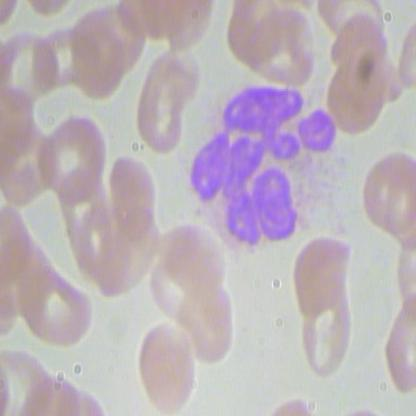RBC: (134, 45, 201, 155), (326, 49, 397, 136), (176, 276, 239, 373), (24, 263, 94, 349), (248, 2, 318, 88), (133, 320, 196, 415), (40, 114, 104, 205), (161, 215, 229, 291), (293, 235, 354, 316), (294, 295, 355, 376), (107, 150, 159, 242), (361, 149, 415, 237), (67, 22, 125, 98), (1, 120, 52, 206), (1, 28, 58, 104), (69, 198, 118, 276)
WBC: (174, 79, 360, 248)
